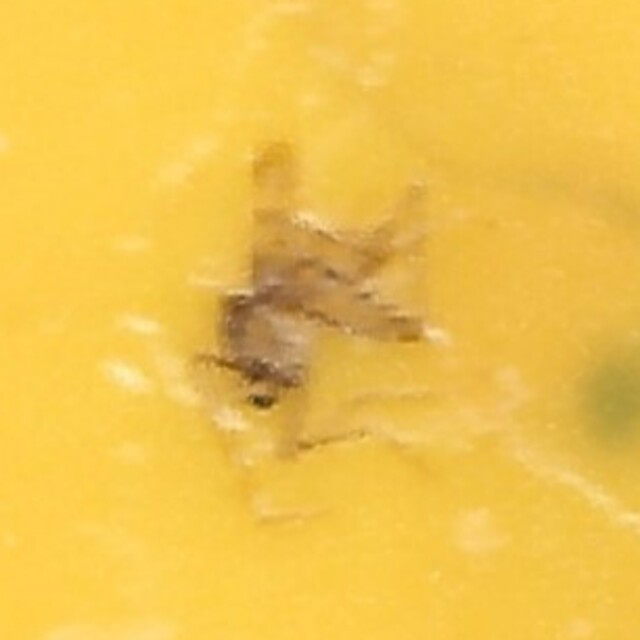Nematocera: (209, 221, 431, 419)
